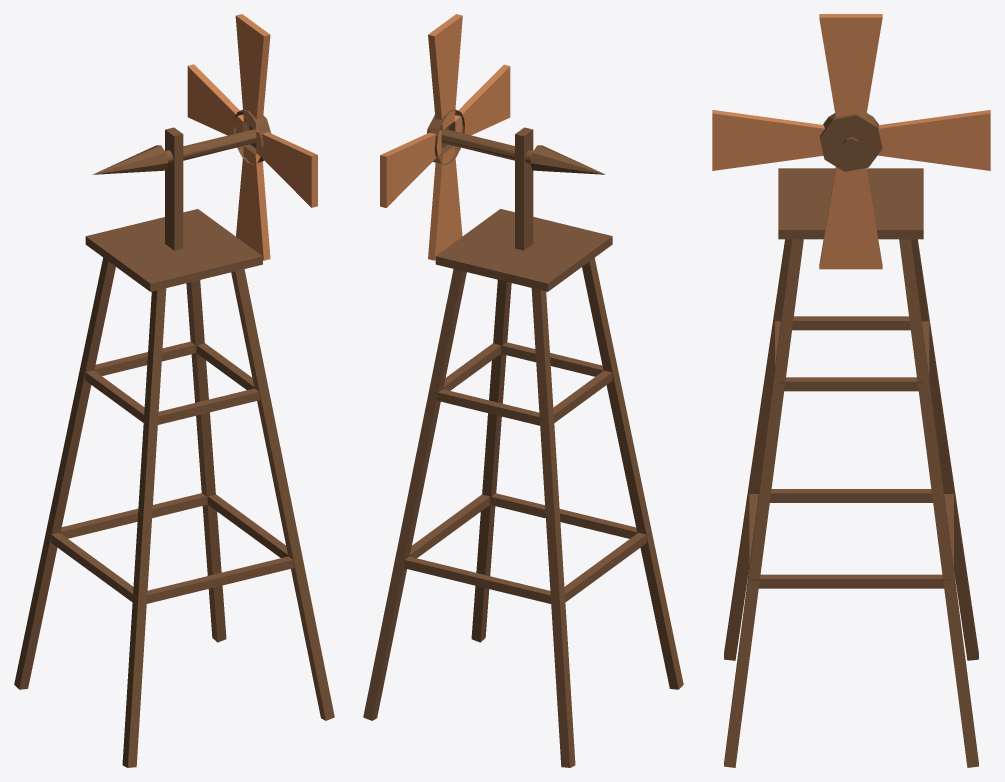
Rendered from moinho.fbx.
3 views of the same model, side by side, from view 1: azimuth 30°, elevation 25°; view 2: azimuth 150°, elevation 25°; view 3: azimuth 270°, elevation 25° (orthographic). The views are drawn at different scales.
Parts seen in each view (by area): view 1: moinho; view 2: moinho; view 3: moinho.
Boxes of the visible parts, x1,y1,x2,y2 form: moinho: (14, 14, 334, 767); moinho: (363, 14, 683, 767); moinho: (712, 14, 990, 767).
Size of the model in its own units: 317 by 963 by 328.
